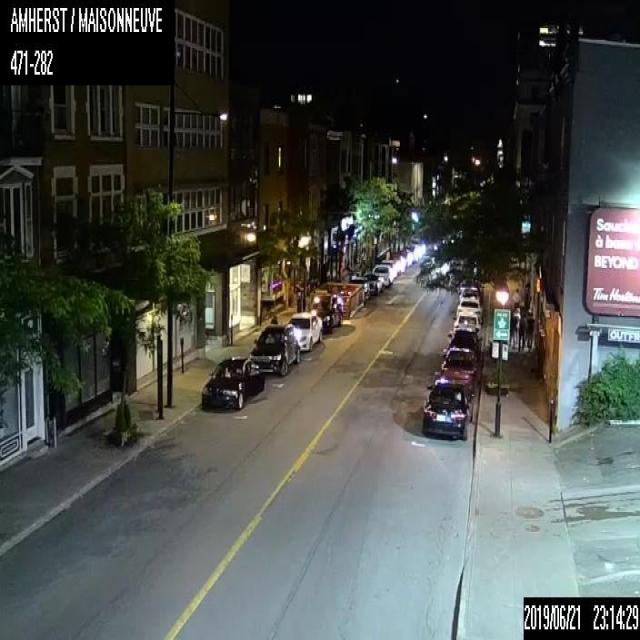pedestrian: (525, 310, 534, 348), (508, 314, 516, 348), (517, 314, 524, 350), (512, 286, 519, 308), (269, 314, 277, 323)
vehicle: (202, 356, 264, 408), (422, 382, 472, 439), (248, 323, 299, 375), (286, 312, 322, 350), (310, 293, 342, 332), (441, 359, 476, 393), (440, 347, 477, 373), (448, 327, 481, 356), (452, 310, 482, 338), (456, 296, 482, 324), (349, 276, 369, 298), (372, 264, 392, 284), (458, 285, 480, 303), (363, 274, 381, 294), (379, 259, 396, 279)
